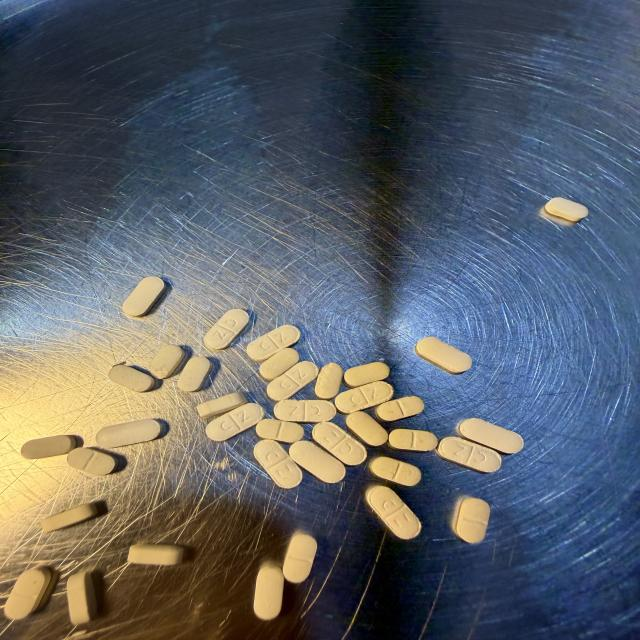pill: (366, 486, 421, 539), (4, 567, 52, 619), (289, 441, 345, 483), (312, 422, 366, 465), (254, 440, 302, 488), (436, 437, 501, 472), (459, 419, 523, 454), (206, 404, 264, 441), (416, 337, 472, 374), (267, 361, 318, 401), (247, 324, 300, 362), (96, 419, 162, 448), (335, 381, 393, 413), (204, 309, 249, 350), (123, 277, 166, 317), (283, 533, 317, 583), (254, 564, 284, 620), (42, 503, 97, 532), (455, 498, 490, 543), (67, 571, 96, 625), (370, 457, 421, 486), (346, 412, 388, 446), (274, 400, 336, 422), (197, 392, 247, 419), (67, 448, 116, 475), (21, 435, 76, 459), (259, 348, 299, 381), (109, 364, 155, 392), (375, 396, 424, 421), (150, 345, 185, 379), (344, 362, 389, 388), (178, 357, 211, 392), (128, 544, 183, 565), (256, 419, 304, 443), (389, 429, 437, 451), (545, 197, 588, 221), (315, 363, 342, 399)
